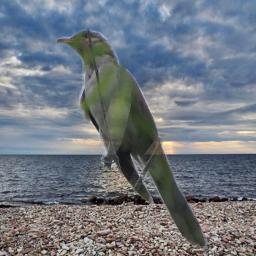Cuckoo: (57, 29, 214, 251)
